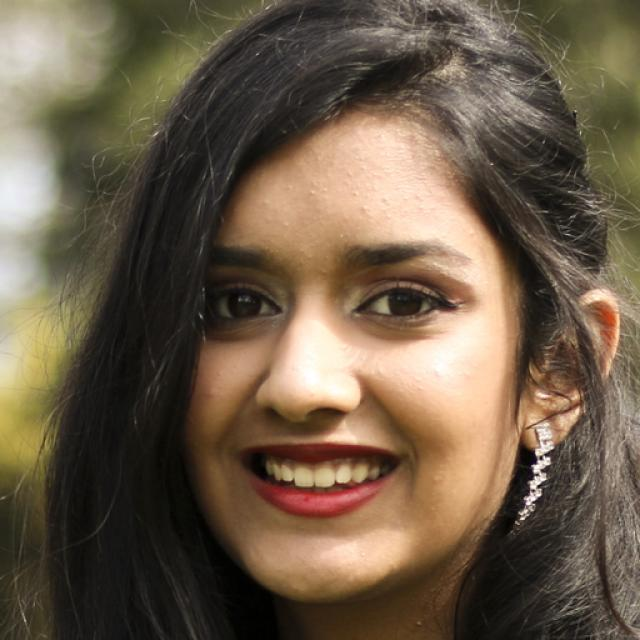happy: (172, 110, 522, 602)
